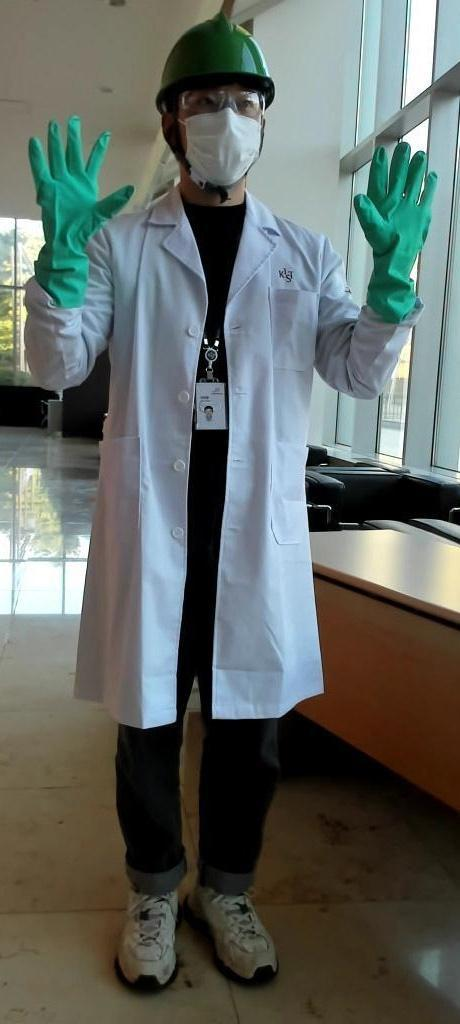lab_coat: (100, 224, 333, 704)
